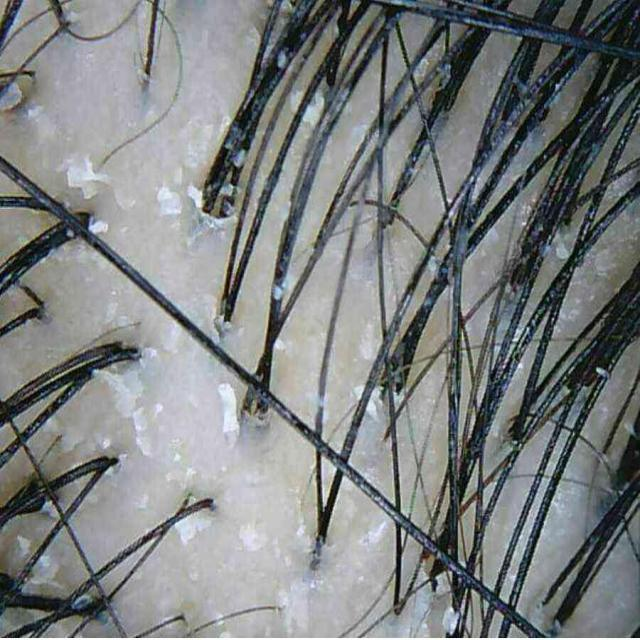d: (97, 369, 150, 455), (66, 156, 110, 199), (218, 382, 240, 447), (175, 512, 212, 544), (132, 407, 152, 456), (30, 554, 59, 584), (302, 88, 325, 125), (156, 185, 182, 216), (0, 81, 22, 112), (442, 606, 460, 637), (366, 388, 382, 421), (186, 185, 202, 209), (555, 239, 570, 260), (231, 149, 246, 169), (15, 535, 30, 555), (89, 220, 108, 235), (290, 90, 304, 110), (276, 50, 288, 69), (352, 384, 364, 401), (271, 286, 284, 301)
